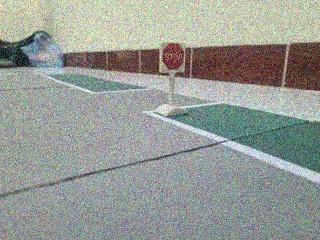stop: (155, 40, 191, 78)
